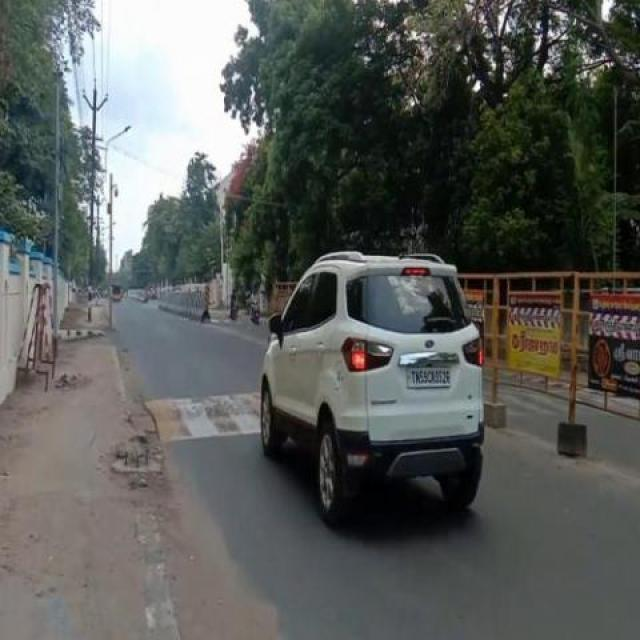Speed Bump: (144, 391, 260, 446), (506, 388, 546, 411)
